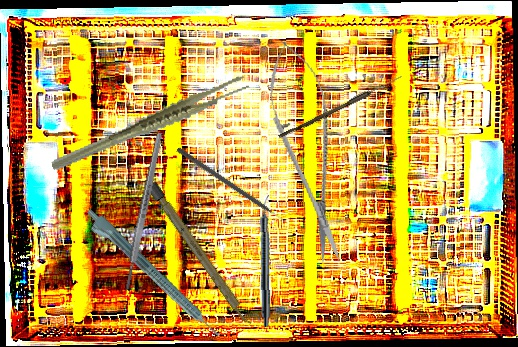Handpiece: (79, 206, 223, 346), (258, 194, 274, 328)
Hook Surgical: (175, 146, 290, 227)
Micro Scissor: (256, 34, 360, 270)
Scalpel Handle: (146, 180, 254, 329), (122, 130, 165, 293)
Surgical Spoon: (278, 73, 403, 141)
Tissue Forceps: (41, 74, 259, 172)
